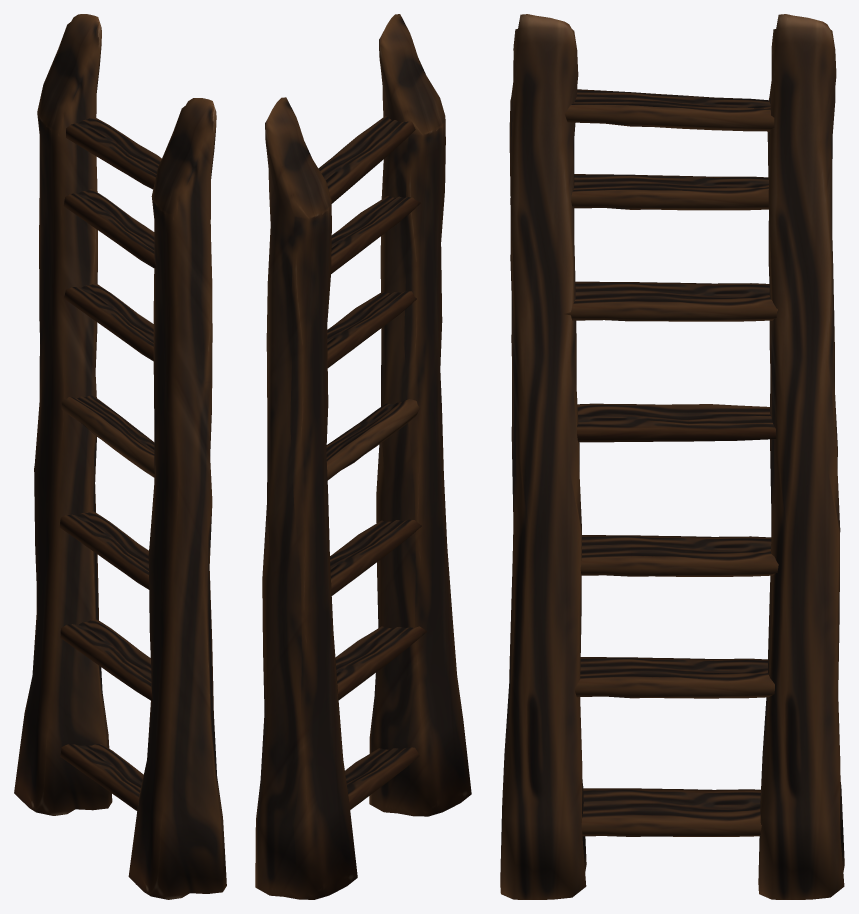
Rendered from Stair_V1.fbx.
3 views of the same model, side by side, from view 1: azimuth 30°, elevation 25°; view 2: azimuth 150°, elevation 25°; view 3: azimuth 270°, elevation 25° (orthographic). The views are drawn at different scales.
Visible parts, largest first — view 1: Stair_V2; view 2: Stair_V2; view 3: Stair_V2.
Part boxes in pixels (x1,y1,x2,y2): Stair_V2: [14, 14, 226, 899]; Stair_V2: [255, 14, 471, 899]; Stair_V2: [500, 14, 844, 899].
Bounding box in the file's own units: 24.35 × 235 × 83.21.
